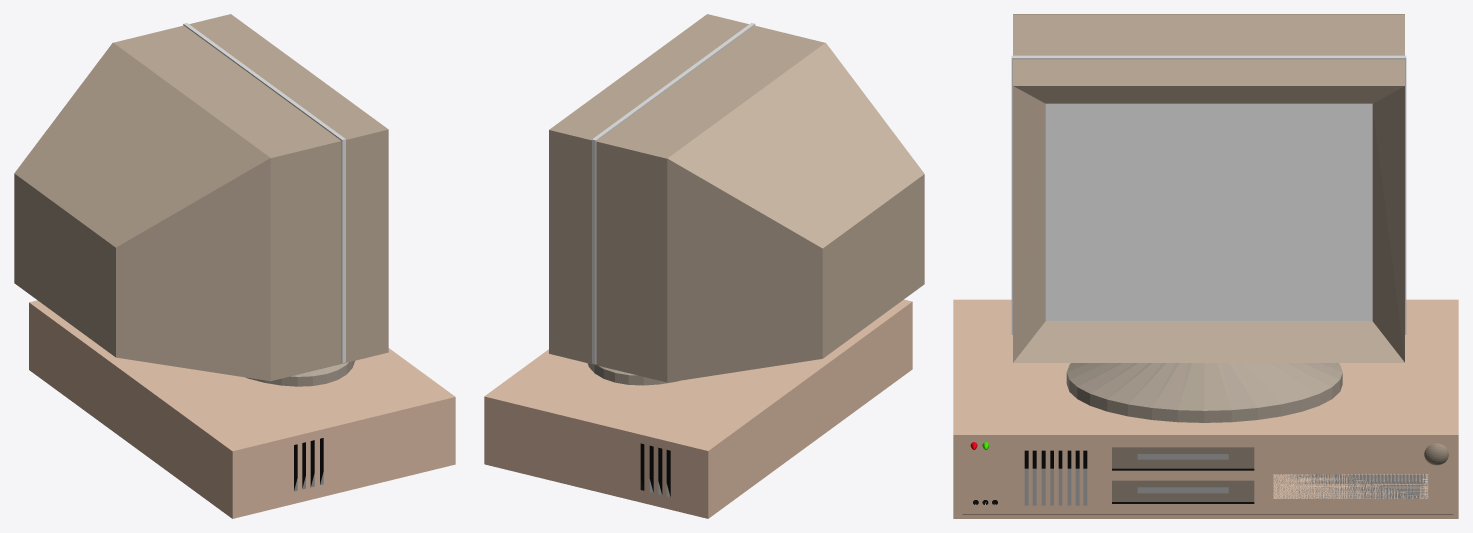
File: VieilOrdiV2PICKMEPICKME.dae
The picture shows the model from 3 angles, left to right: view 1: azimuth 30°, elevation 25°; view 2: azimuth 150°, elevation 25°; view 3: azimuth 270°, elevation 25°; orthographic projection. The views are drawn at different scales.
Parts seen in each view (by area): view 1: Cube.001, Cube, Cube.011, Cylinder; view 2: Cube.001, Cube, Cube.011, Cylinder; view 3: Cube.001, Cube, Cylinder, Cube.011.
Part boxes in pixels (box(x1,y1,x2,y2)): Cube.001: box(14, 14, 388, 381); Cube: box(29, 300, 455, 518); Cube.011: box(183, 23, 345, 363); Cylinder: box(245, 361, 354, 386); Cube.001: box(549, 14, 924, 382); Cube: box(484, 299, 912, 518); Cube.011: box(592, 23, 755, 364); Cylinder: box(587, 363, 679, 385); Cube.001: box(1013, 14, 1404, 362); Cube: box(953, 299, 1458, 518); Cylinder: box(1066, 363, 1342, 422); Cube.011: box(1011, 55, 1406, 334).
Bounding box in the file's own units: 7.47 × 9 × 8.03.
